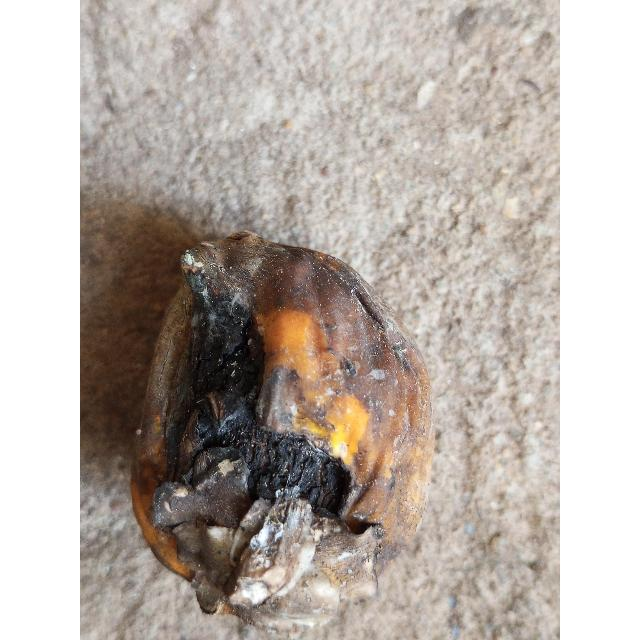damaged: (129, 231, 435, 624)
